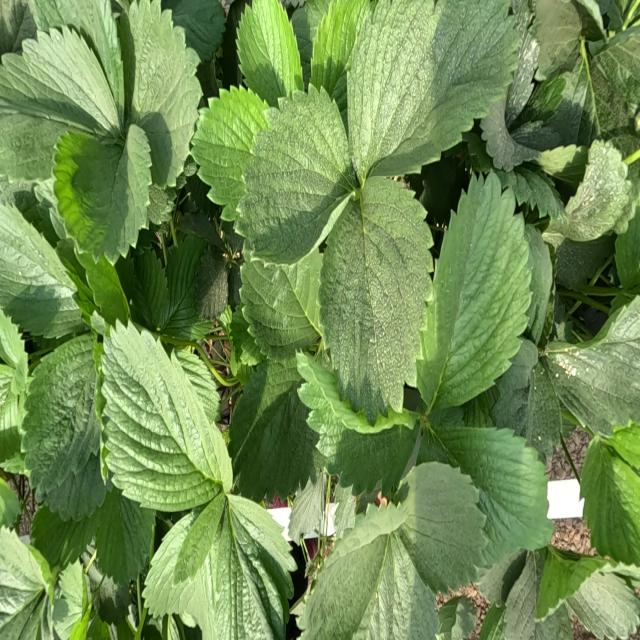Leaves: (347, 0, 520, 180), (319, 180, 432, 419), (417, 175, 531, 411), (101, 327, 224, 509), (241, 90, 352, 264), (0, 27, 117, 183), (428, 422, 551, 568), (298, 354, 419, 494), (301, 504, 410, 639), (124, 2, 201, 184), (228, 356, 322, 501), (544, 297, 639, 432), (22, 335, 100, 498), (216, 495, 295, 639), (398, 464, 484, 593), (0, 205, 83, 338), (192, 87, 270, 215), (142, 511, 217, 639), (38, 0, 124, 110), (241, 250, 322, 359), (353, 539, 438, 639), (53, 131, 120, 256), (493, 345, 562, 460), (580, 439, 639, 563), (236, 0, 302, 106), (566, 140, 631, 241), (311, 0, 371, 106), (105, 125, 151, 257), (503, 554, 574, 639), (96, 489, 154, 586), (590, 27, 639, 131), (161, 236, 210, 340), (1, 529, 47, 639), (567, 570, 639, 638), (480, 91, 540, 171), (36, 452, 106, 520), (174, 491, 226, 582), (31, 503, 99, 571), (409, 153, 469, 224), (492, 340, 537, 434), (1, 309, 27, 461), (76, 251, 130, 324), (162, 0, 225, 62), (535, 0, 581, 80), (291, 0, 329, 89), (554, 231, 613, 288), (172, 350, 219, 421), (500, 167, 564, 219), (525, 225, 552, 344), (131, 249, 169, 331), (477, 551, 526, 604), (289, 472, 325, 543), (196, 245, 228, 320), (53, 561, 83, 639), (230, 306, 264, 369), (615, 208, 639, 291), (435, 596, 477, 639), (180, 213, 225, 251), (226, 493, 271, 526), (334, 481, 357, 538)
